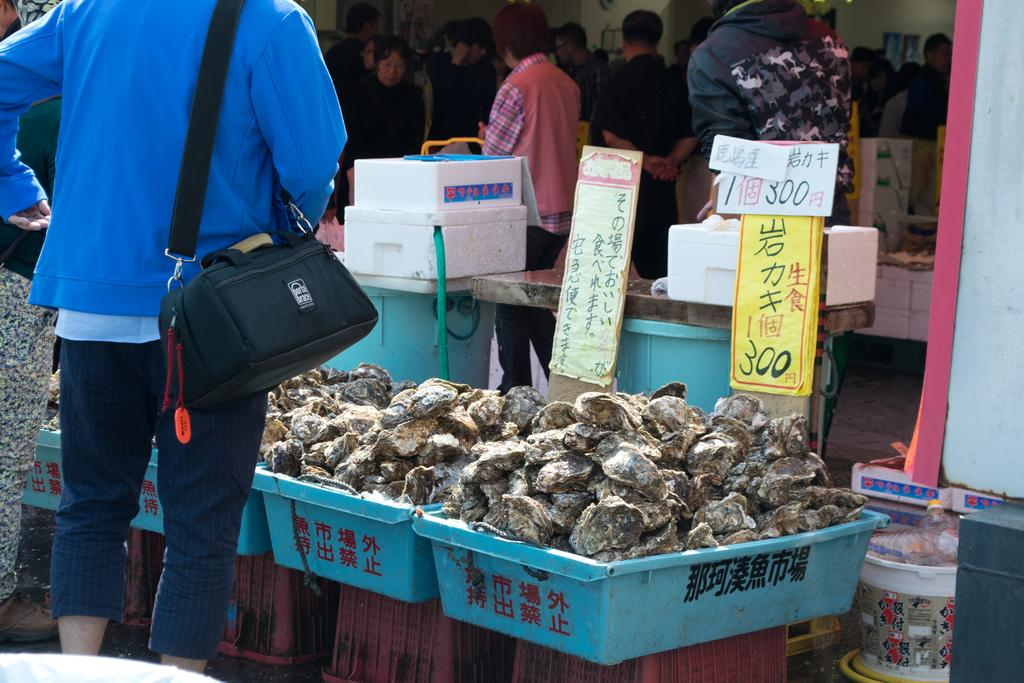Luggage-and-bags: (138, 153, 369, 421)
